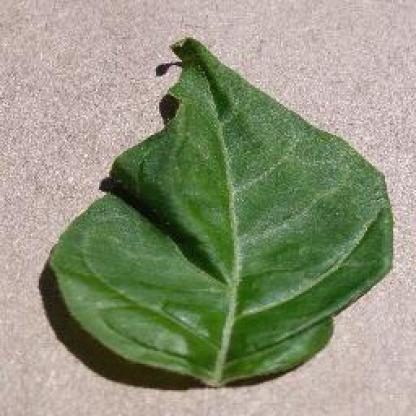bad leaf: (44, 46, 394, 239)
good leaf: (39, 243, 393, 405)
